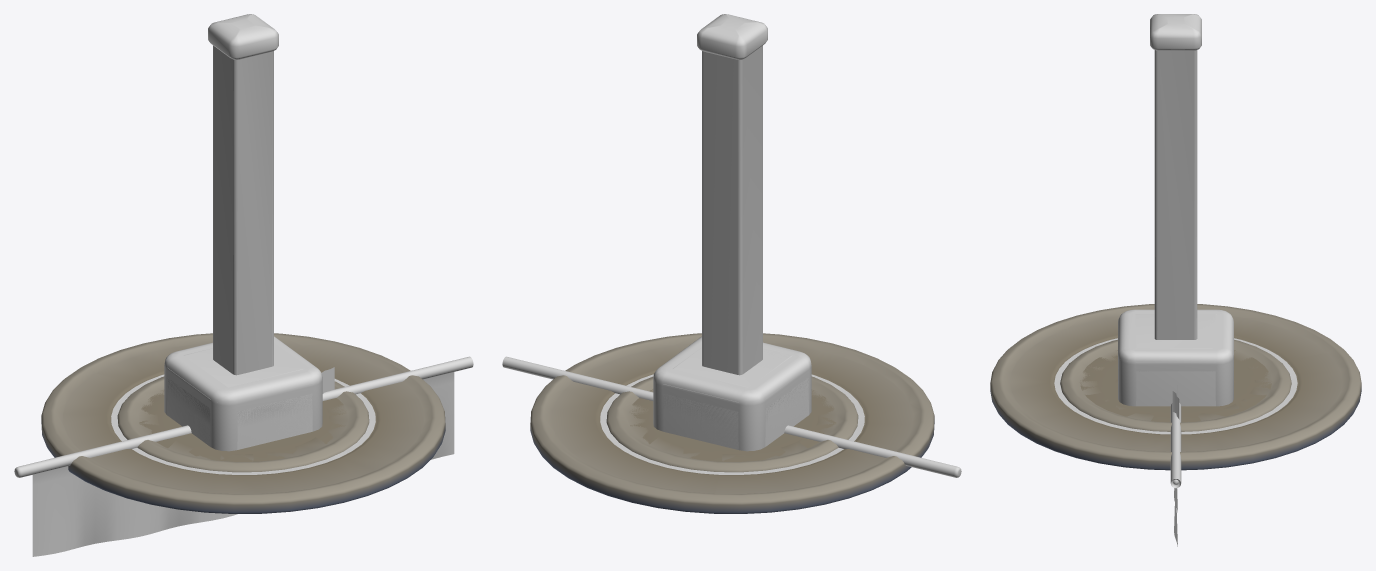
The model's file is kit.glb.
The picture shows the model from 3 angles, left to right: view 1: azimuth 30°, elevation 25°; view 2: azimuth 150°, elevation 25°; view 3: azimuth 270°, elevation 25°; orthographic projection. The views are drawn at different scales.
Parts seen in each view (by area): view 1: padFinish_1, gatePost_0, bannerCloth_0, grassCap_0, pad_1, block_0, groundBody_0, bannerRod_0, gatePost_1, padFinish_0; view 2: padFinish_1, gatePost_0, grassCap_0, pad_1, block_0, groundBody_0, bannerRod_0, gatePost_1, padFinish_0; view 3: padFinish_1, gatePost_0, grassCap_0, pad_1, block_0, gatePost_1, padFinish_0, bannerRod_0.
Boxes of the visible parts, x1,y1,x2,y2 form: padFinish_1: (41,333,445,513); gatePost_0: (213,19,273,375); bannerCloth_0: (32,372,454,556); grassCap_0: (164,336,322,451); pad_1: (117,376,369,472); block_0: (167,348,312,449); groundBody_0: (167,367,312,449); bannerRod_0: (14,356,473,477); gatePost_1: (208,14,278,59); padFinish_0: (111,374,375,474); padFinish_1: (530,333,934,513); gatePost_0: (702,19,762,375); grassCap_0: (653,336,811,451); pad_1: (606,376,858,472); block_0: (663,347,808,449); groundBody_0: (663,367,808,449); bannerRod_0: (502,356,961,477); gatePost_1: (697,14,767,59); padFinish_0: (600,374,864,474); padFinish_1: (990,304,1361,470); gatePost_0: (1154,17,1197,339); grassCap_0: (1118,309,1233,406); pad_1: (1060,339,1291,431); block_0: (1135,314,1216,406); gatePost_1: (1150,14,1201,50); padFinish_0: (1054,338,1297,434); bannerRod_0: (1170,403,1181,488).
Size of the model in its own units: 8.3 by 8.52 by 6.4.
